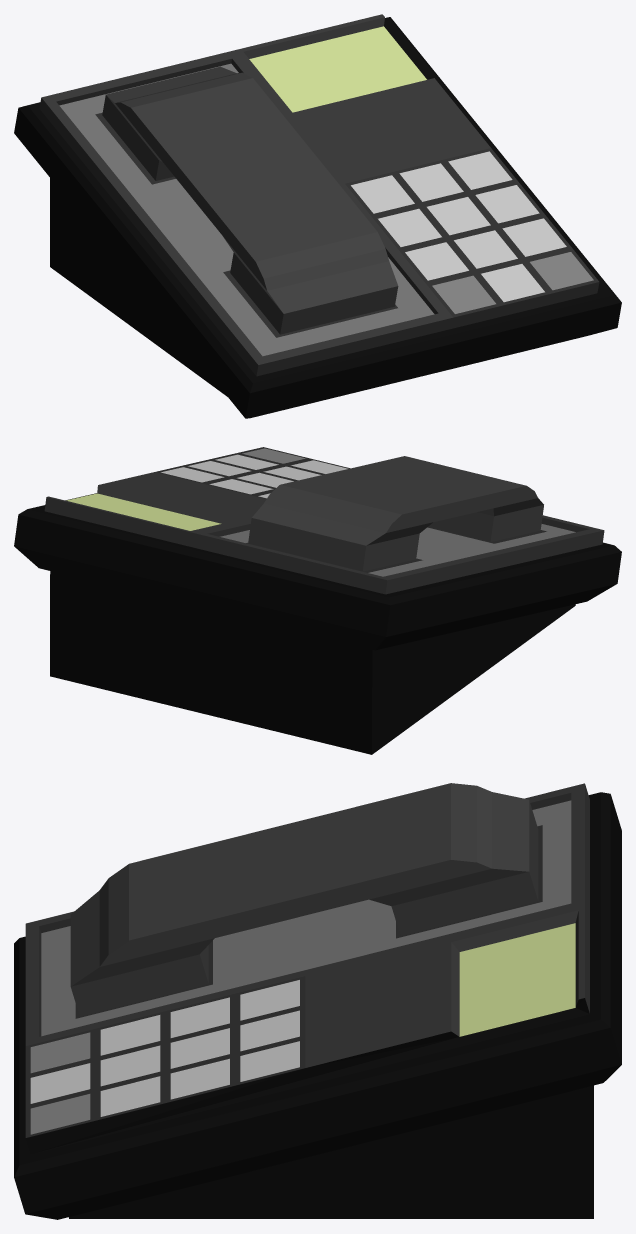
Rendered from Counter Phone #1.fbx.
3 views of the same model, one above another, from view 1: azimuth 30°, elevation 25°; view 2: azimuth 150°, elevation 25°; view 3: azimuth 270°, elevation 25° (orthographic). The views are drawn at different scales.
Visible parts, largest first — view 1: Counter Phone #1; view 2: Counter Phone #1; view 3: Counter Phone #1.
Boxes of the visible parts, x1,y1,x2,y2 form: Counter Phone #1: [14, 14, 621, 418]; Counter Phone #1: [14, 447, 621, 754]; Counter Phone #1: [14, 783, 621, 1219].
Bounding box in the file's own units: 36.32 × 18.05 × 39.88.
Materials: 1 (1 with a texture image).
